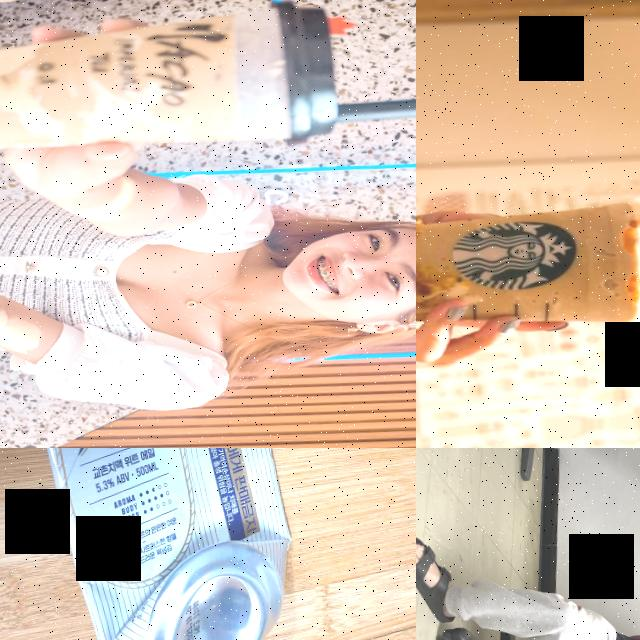cup: (0, 0, 338, 164), (416, 194, 640, 345)
